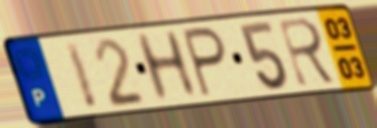2: (93, 36, 148, 110)
5: (236, 18, 290, 92)
H: (131, 28, 201, 105)
I: (62, 39, 102, 112)
P: (179, 24, 229, 100)
R: (275, 15, 341, 90)
